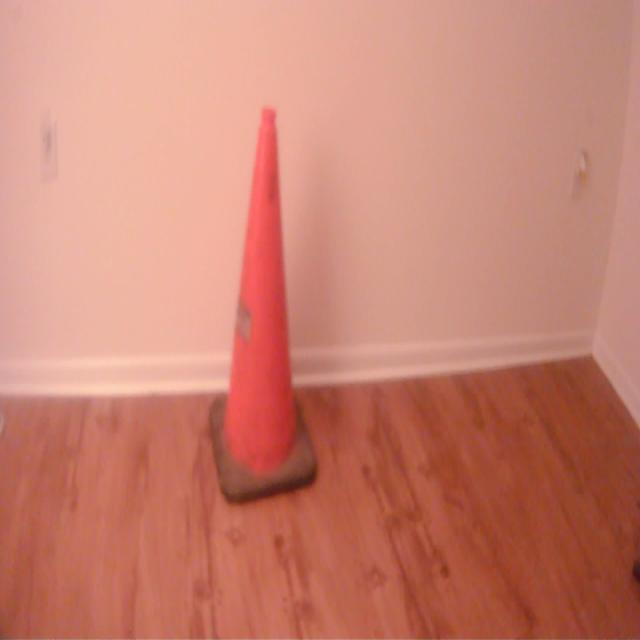traffic cone: (205, 101, 323, 512)
